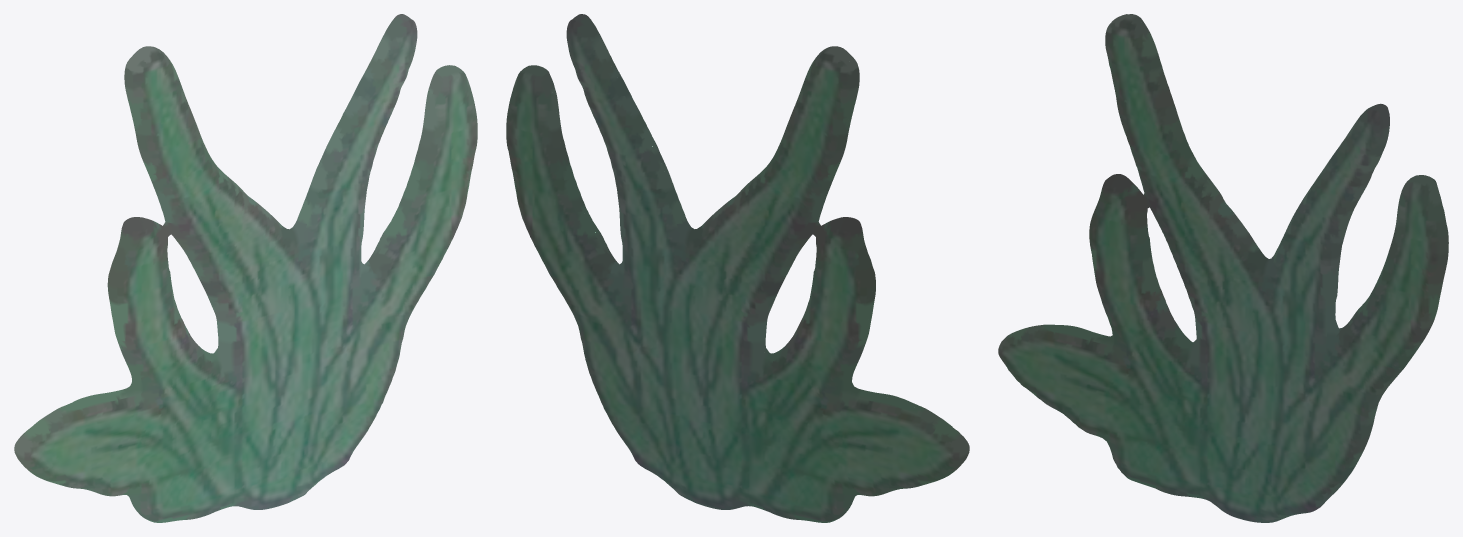
Rendered from seaweed_camera.glb.
3 views of the same model, side by side, from view 1: azimuth 30°, elevation 25°; view 2: azimuth 150°, elevation 25°; view 3: azimuth 330°, elevation 25° (orthographic). The views are drawn at different scales.
Size of the model in its own units: 0.2093 by 0.2128 by 0.0102.
